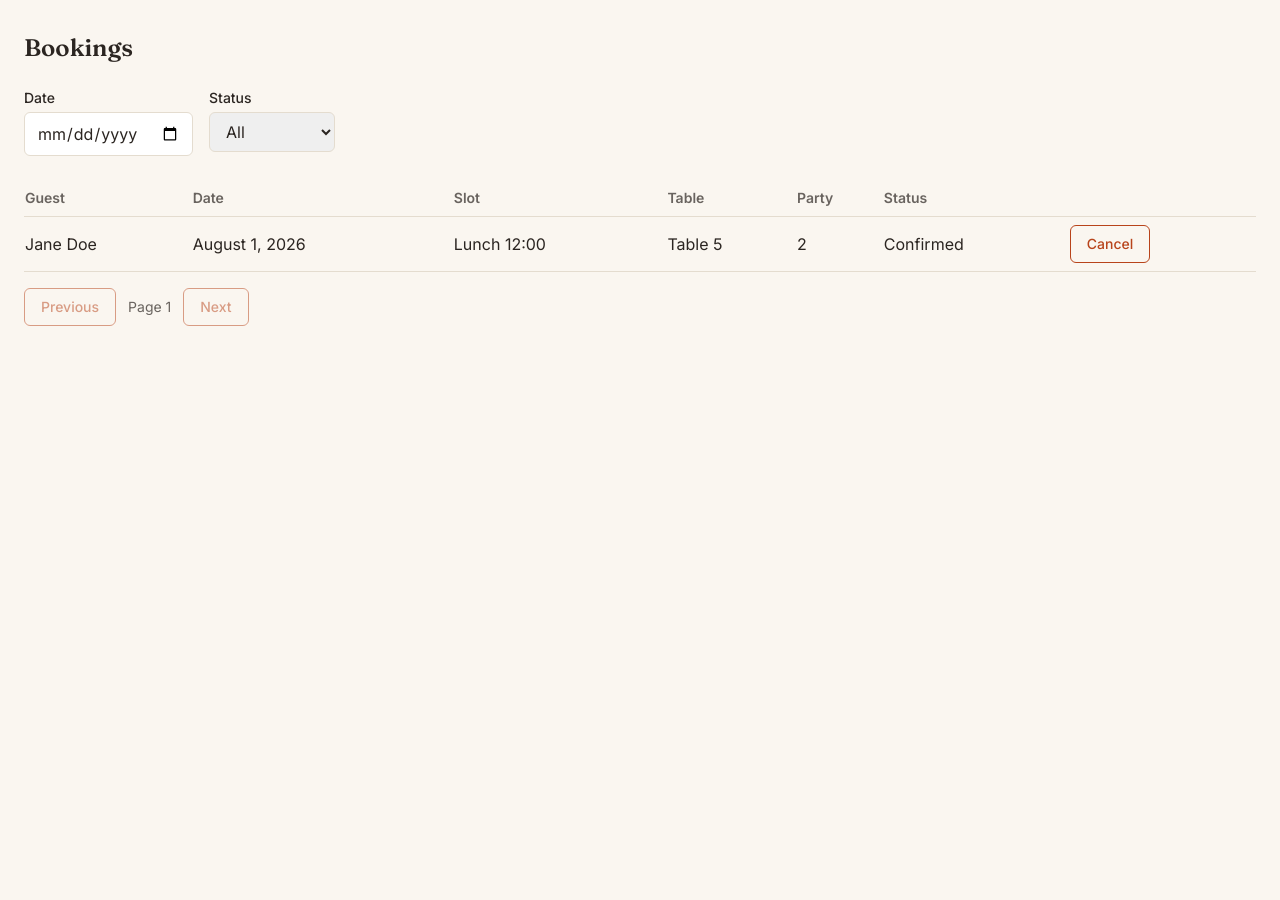
AdminBookings › cancels a booking through the confirm dialog
Click the button "Cancel" at (1110, 244), box [1070,225,1150,263]
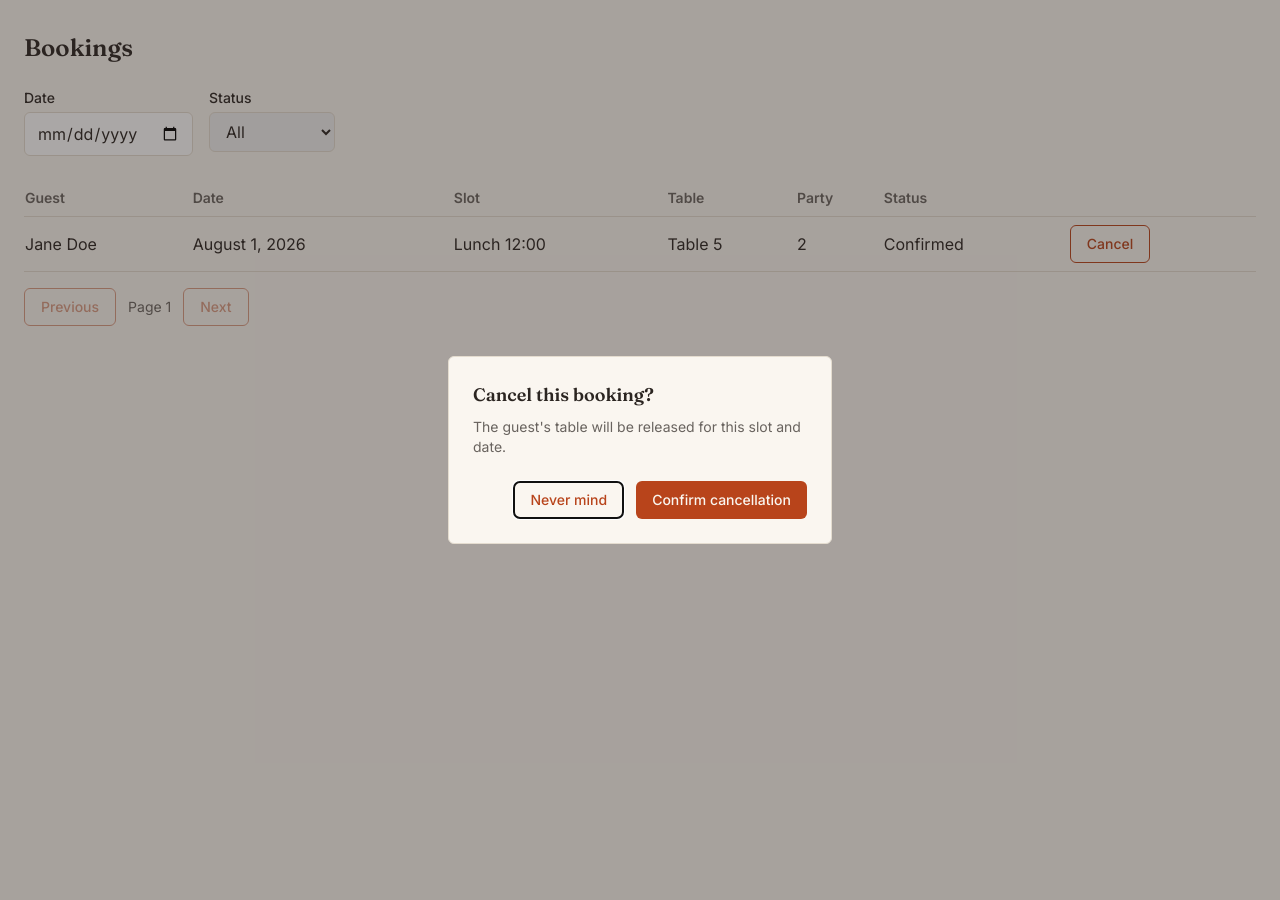
Click the button "Confirm cancellation" at (722, 500), box [636,481,807,519]
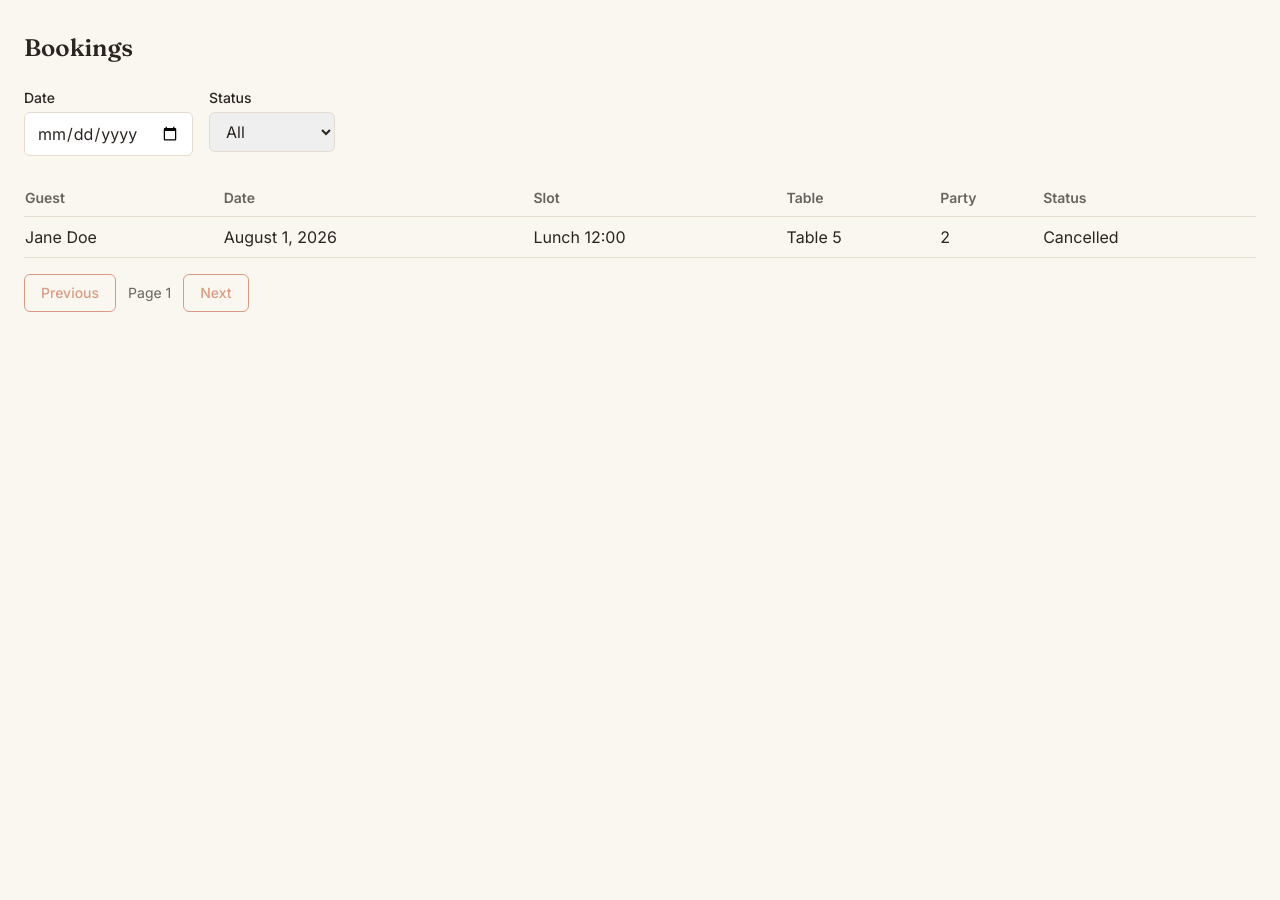
Expected: the text "cancelled" is shown, [1042,216,1251,258]
